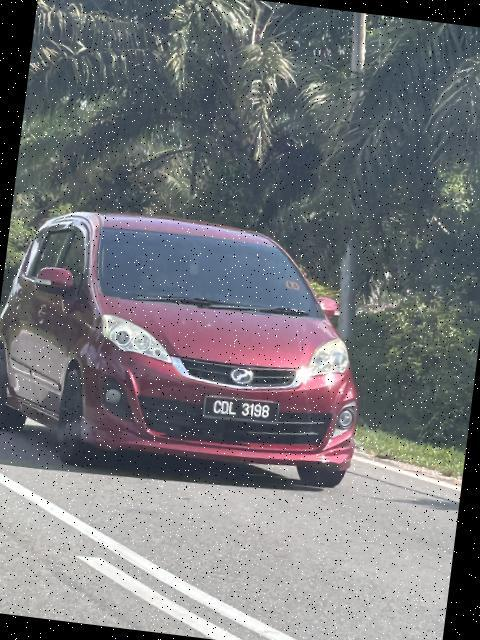CDL3198: (201, 395, 282, 427)
License_Plate: (201, 395, 282, 427)
car: (1, 196, 385, 504)
